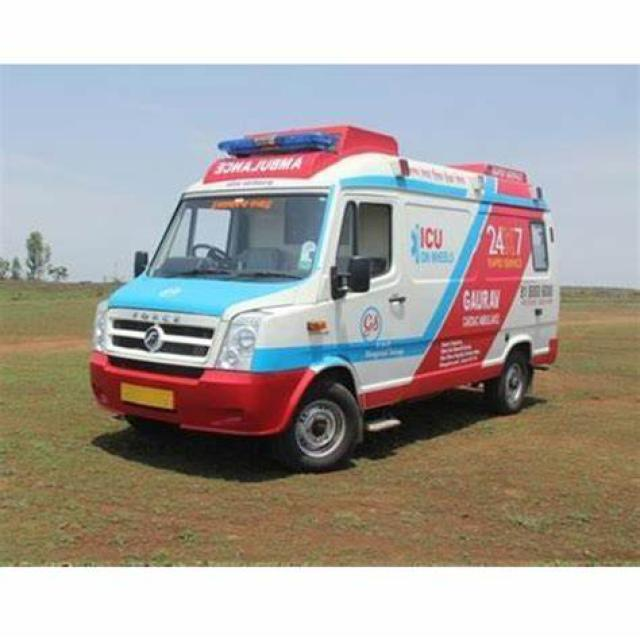ambulance: (196, 114, 360, 166)
